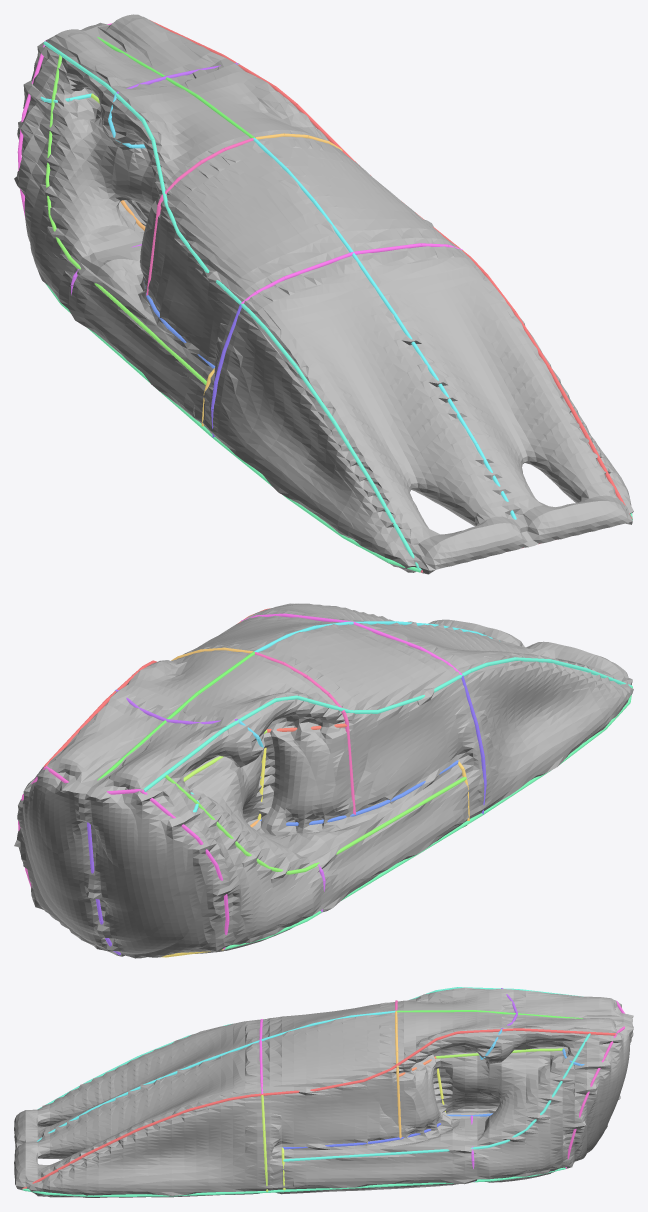
File: t2f_hand_vacuum.gltf
The picture shows the model from 3 angles, top to bottom: view 1: azimuth 30°, elevation 25°; view 2: azimuth 150°, elevation 25°; view 3: azimuth 270°, elevation 25°; orthographic projection. The views are drawn at different scales.
Size of the model in its own units: 0.3336 by 0.2618 by 0.9361.
